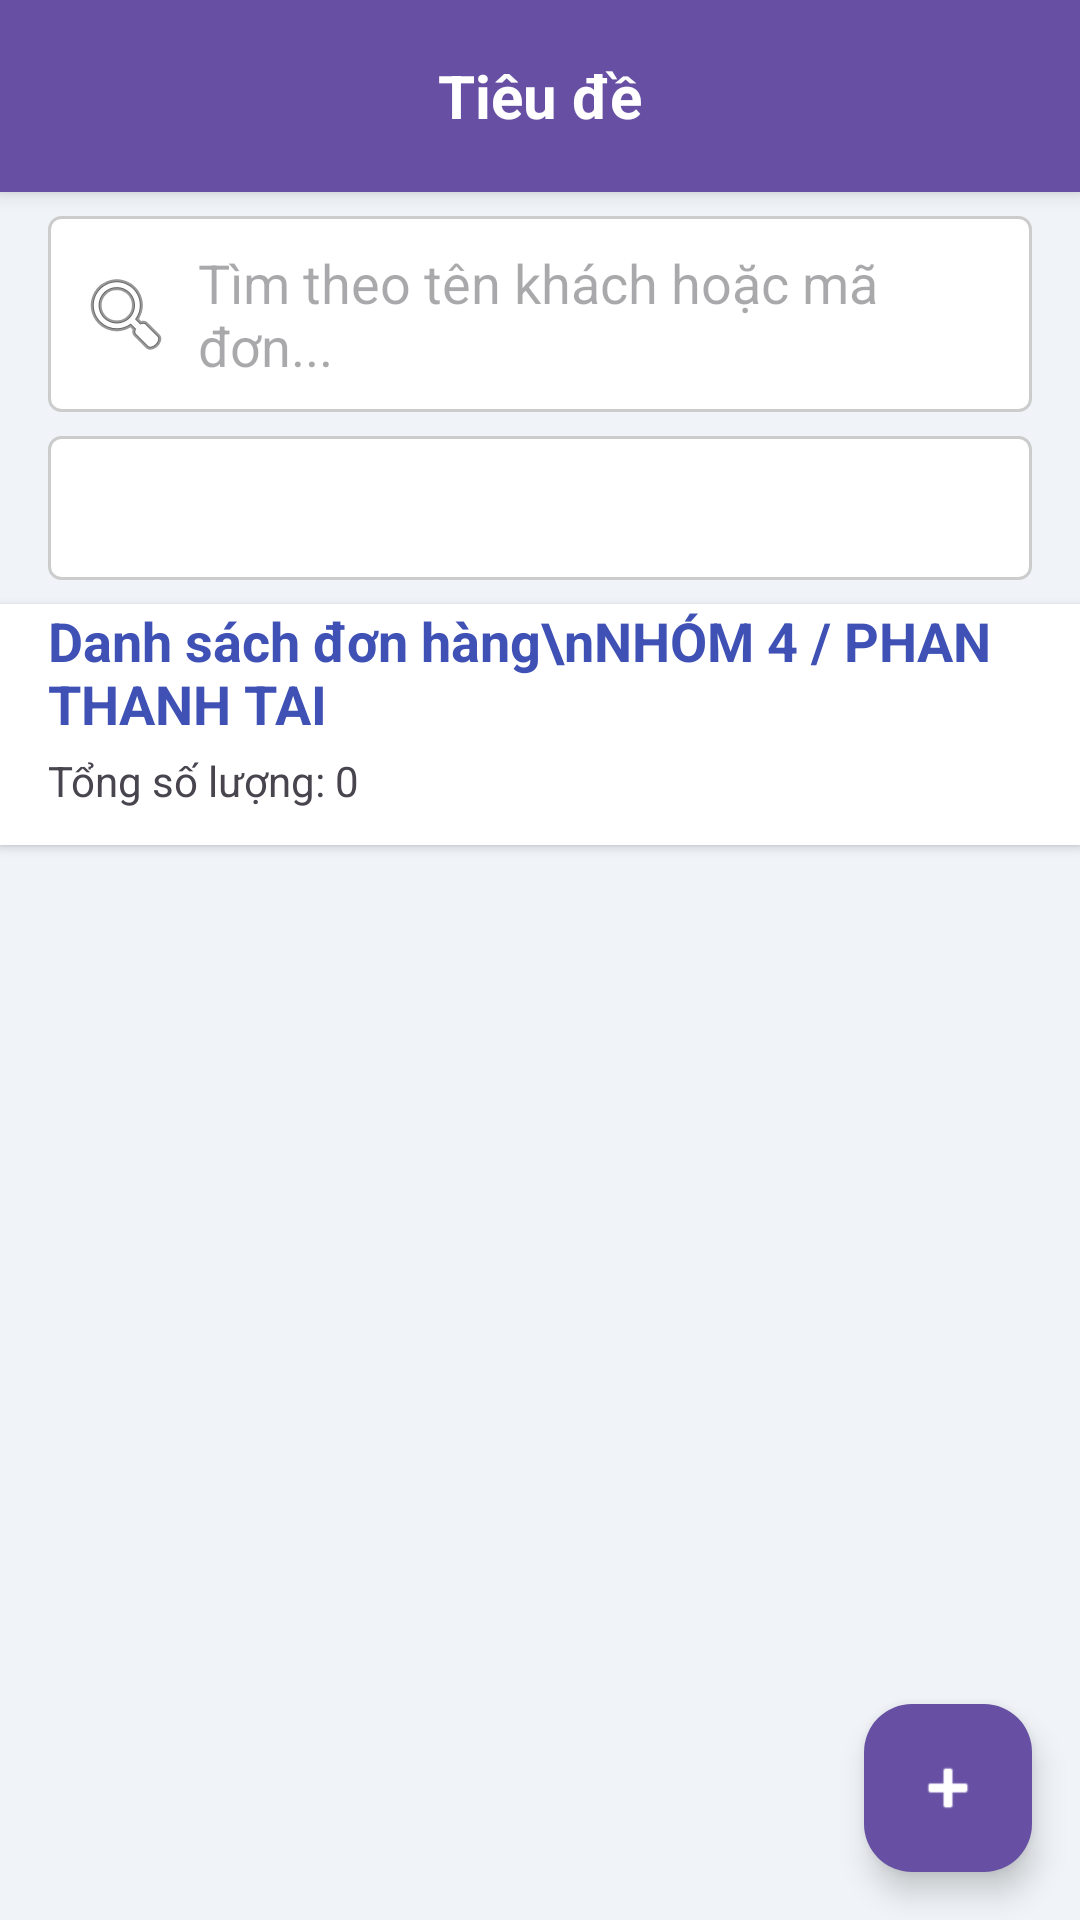

Locate icon controls on the screen. Image size 1080x1920, boxes as (x1, y1, x2, y2).
Thêm đơn hàng mới: (864, 1704, 1032, 1872)
